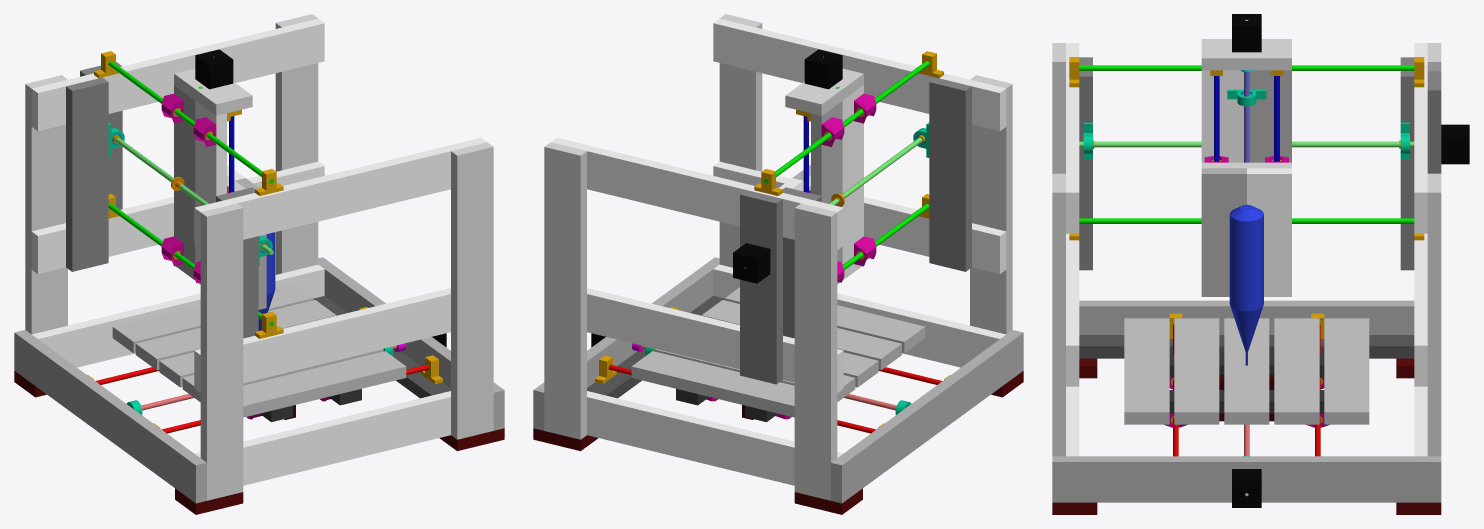
Rendered from CNC_24_VR_prep.fbx.
3 renders of one model, left to right at view 1: azimuth 30°, elevation 25°; view 2: azimuth 150°, elevation 25°; view 3: azimuth 270°, elevation 25°, orthographic. The views are drawn at different scales.
Visible parts, largest first — view 1: Back Support Upright 01, Front Support Upright 01, Head Side 01, Gantry Support Side 01, Foot Back Plate, Foot Side 01, Head Side 02, Gantry Motor Mount Upright, Back Support Upright 02, Front Support Upright 02, Table Top Wide 01, Foot Side 02 (+20 smaller); view 2: Back Support Upright 02, Front Support Upright 02, Foot Back Plate, Foot Side 02, Head Side 01, Head Side 02, Gantry Lead Screw Support Upright 01, Gantry Support Side 02, Back Support Upright 01, Gantry Lead Screw Support Upright 02, Front Support Upright 01, Gantry Support Side 01 (+18 smaller); view 3: Foot Front Plate, Foot Back Plate, Table Top Wide 05, Table Top Wide 01, Table Top Wide 02, Table Top Wide 04, Table Top Wide 03, Tool Plate Vert Centre 01, Router, Tool Plate Vert Centre 02, Front Support Upright 02, Front Support Upright 01 (+29 smaller).
Part boxes in pixels (<box>): Back Support Upright 01: <box>200,203,243,500</box>; Front Support Upright 01: <box>451,142,493,439</box>; Head Side 01: <box>194,137,486,249</box>; Gantry Support Side 01: <box>194,288,450,392</box>; Foot Back Plate: <box>14,330,206,503</box>; Foot Side 01: <box>194,391,450,485</box>; Head Side 02: <box>31,18,324,131</box>; Gantry Motor Mount Upright: <box>66,77,108,271</box>; Back Support Upright 02: <box>25,75,67,334</box>; Front Support Upright 02: <box>275,14,318,274</box>; Table Top Wide 01: <box>243,351,406,417</box>; Foot Side 02: <box>32,264,324,367</box>; Back Support Upright 02: <box>794,203,837,500</box>; Front Support Upright 02: <box>544,142,586,439</box>; Foot Back Plate: <box>831,330,1023,503</box>; Foot Side 02: <box>587,391,843,485</box>; Head Side 01: <box>713,18,1006,131</box>; Head Side 02: <box>551,137,843,249</box>; Gantry Lead Screw Support Upright 01: <box>929,77,971,271</box>; Gantry Support Side 02: <box>587,288,843,392</box>; Back Support Upright 01: <box>970,75,1012,334</box>; Gantry Lead Screw Support Upright 02: <box>740,190,782,384</box>; Front Support Upright 01: <box>719,14,762,267</box>; Gantry Support Side 01: <box>713,161,1006,273</box>; Foot Front Plate: <box>1052,456,1441,502</box>; Foot Back Plate: <box>1079,300,1414,334</box>; Table Top Wide 05: <box>1324,318,1369,424</box>; Table Top Wide 01: <box>1124,318,1169,424</box>; Table Top Wide 02: <box>1174,318,1219,424</box>; Table Top Wide 04: <box>1274,318,1319,424</box>; Table Top Wide 03: <box>1224,318,1269,424</box>; Tool Plate Vert Centre 01: <box>1201,168,1246,296</box>; Router: <box>1229,204,1263,365</box>; Tool Plate Vert Centre 02: <box>1247,168,1291,296</box>; Front Support Upright 02: <box>1427,173,1441,456</box>; Front Support Upright 01: <box>1052,173,1065,456</box>.
Size of the model in its own units: 58305 by 60720 by 58810.
